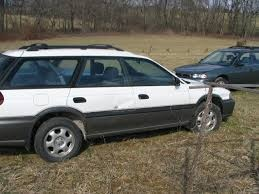Dent: (111, 95, 138, 111)
